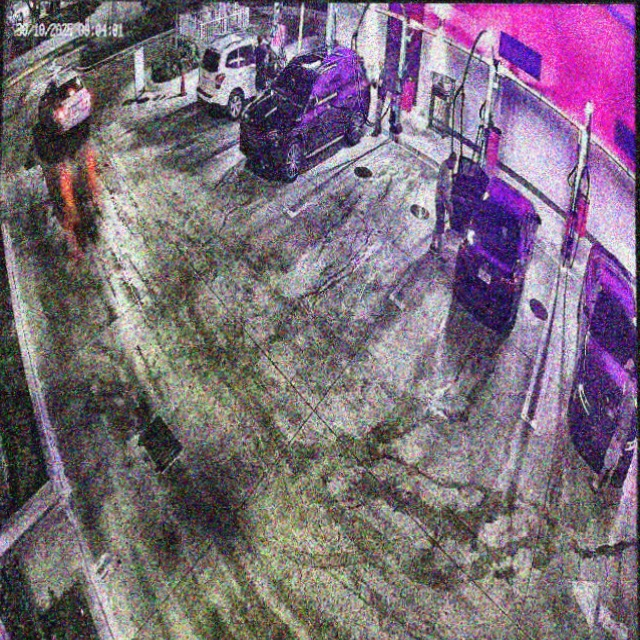Car: (238, 44, 371, 178), (448, 156, 541, 330)
